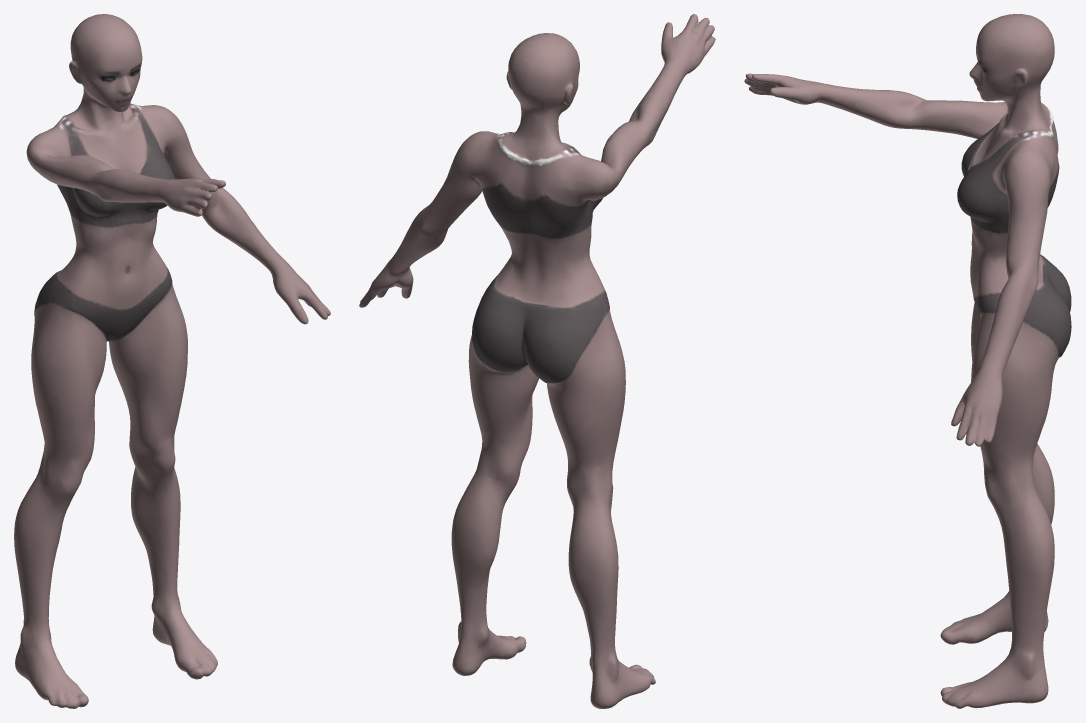
The model's file is full-UpperArmL-90.glb.
The picture shows the model from 3 angles, left to right: view 1: azimuth 30°, elevation 25°; view 2: azimuth 150°, elevation 25°; view 3: azimuth 270°, elevation 25°; orthographic projection.
Parts seen in each view (by area): view 1: full-UpperArmL-90; view 2: full-UpperArmL-90; view 3: full-UpperArmL-90.
Part boxes in pixels (left/top/right/bottom): full-UpperArmL-90: left=14, top=14, right=330, bottom=708; full-UpperArmL-90: left=359, top=14, right=715, bottom=708; full-UpperArmL-90: left=744, top=14, right=1071, bottom=708.
Bounding box in the file's own units: 0.4619 × 1 × 0.4542.
Materials: 1 (1 with a texture image).
